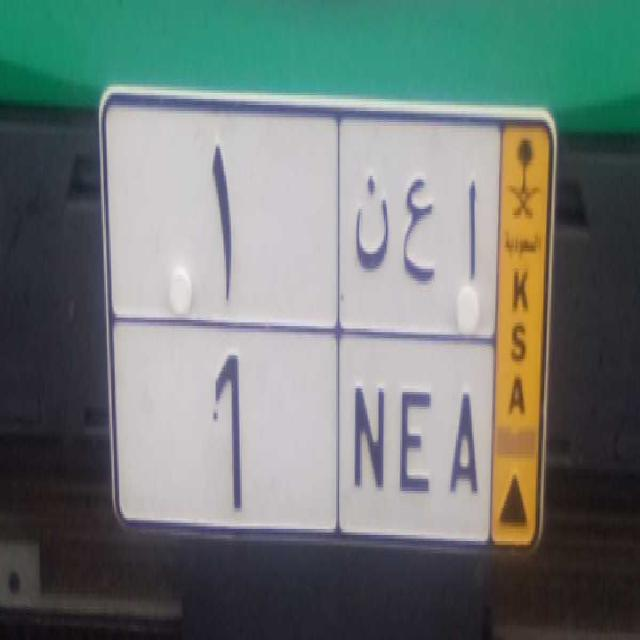license_plate: (108, 312, 495, 550)
